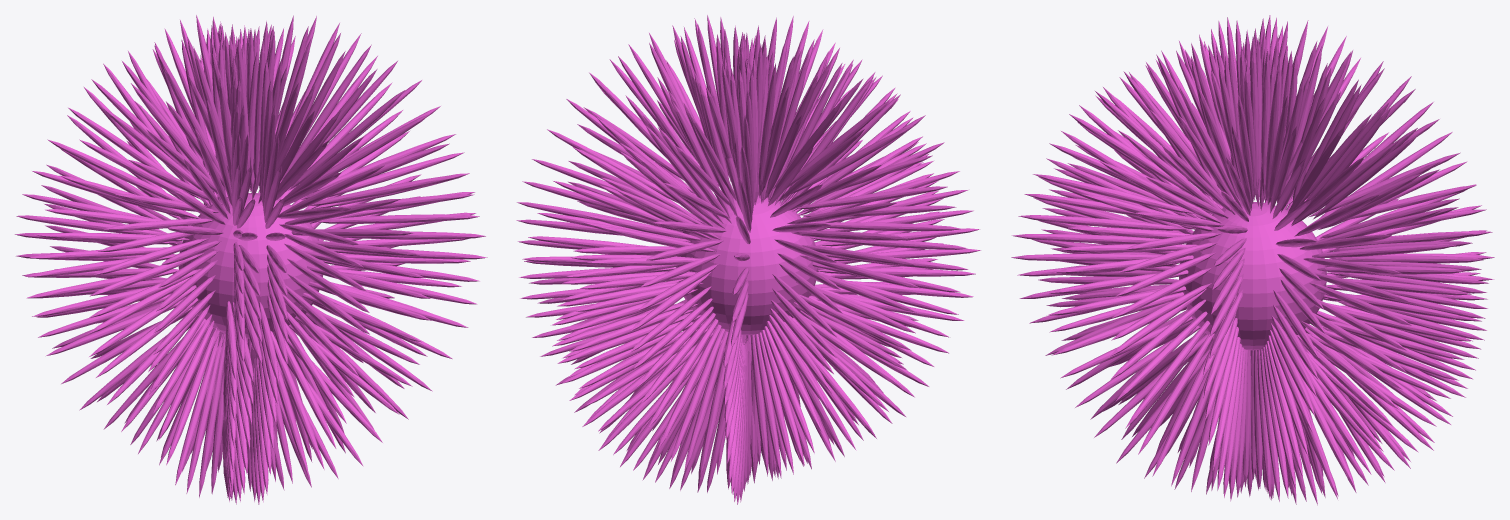
File: fireworkpink.glb
3 renders of one model, left to right at view 1: azimuth 30°, elevation 25°; view 2: azimuth 150°, elevation 25°; view 3: azimuth 270°, elevation 25°, orthographic. The views are drawn at different scales.
Visible parts, largest first — view 1: sparks1; view 2: sparks1; view 3: sparks1.
Boxes of the visible parts, <box> form: sparks1: <box>14,15,487,504</box>; sparks1: <box>516,15,980,504</box>; sparks1: <box>1011,15,1494,505</box>.
Size of the model in its own units: 11.21 by 12 by 11.44.
